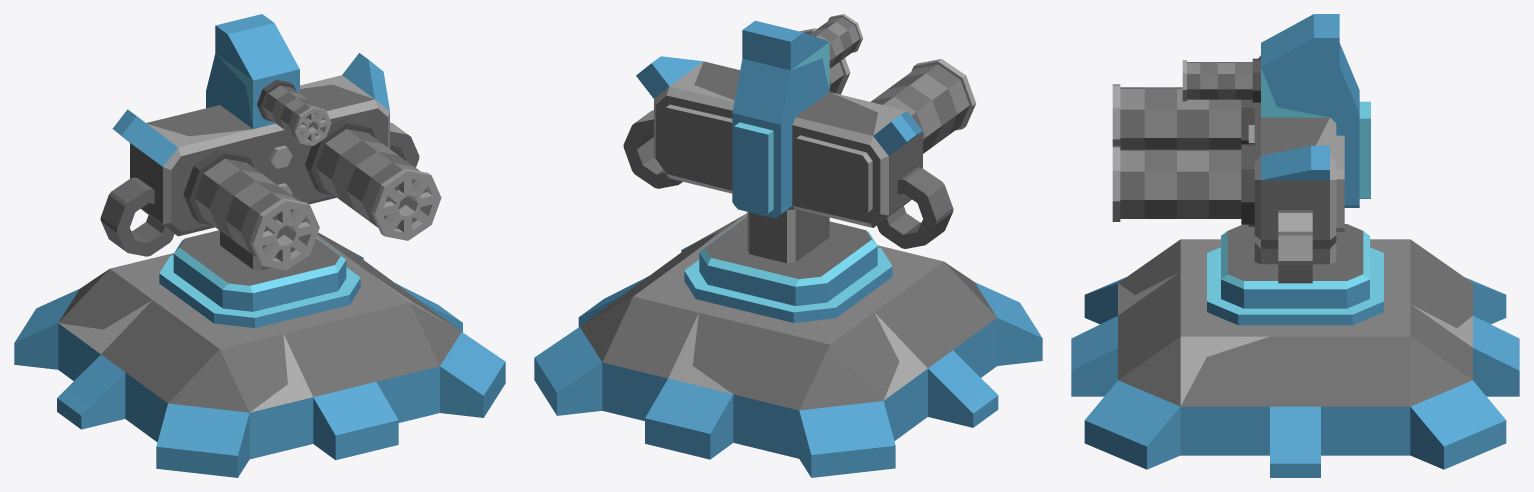
Rendered from tower_gatling_blue_3.fbx.
3 views of the same model, side by side, from view 1: azimuth 30°, elevation 25°; view 2: azimuth 150°, elevation 25°; view 3: azimuth 270°, elevation 25° (orthographic). The views are drawn at different scales.
Visible parts, largest first — view 1: tower_gatling_blue_3, top_gatling_blue_3; view 2: tower_gatling_blue_3, top_gatling_blue_3; view 3: tower_gatling_blue_3, top_gatling_blue_3.
Part boxes in pixels (<box>): tower_gatling_blue_3: <box>14,232,505,477</box>; top_gatling_blue_3: <box>100,14,441,327</box>; tower_gatling_blue_3: <box>534,213,1042,477</box>; top_gatling_blue_3: <box>623,14,976,322</box>; tower_gatling_blue_3: <box>1071,239,1519,477</box>; top_gatling_blue_3: <box>1112,14,1383,325</box>.
Bounding box in the file's own units: 173 × 146 × 168.
